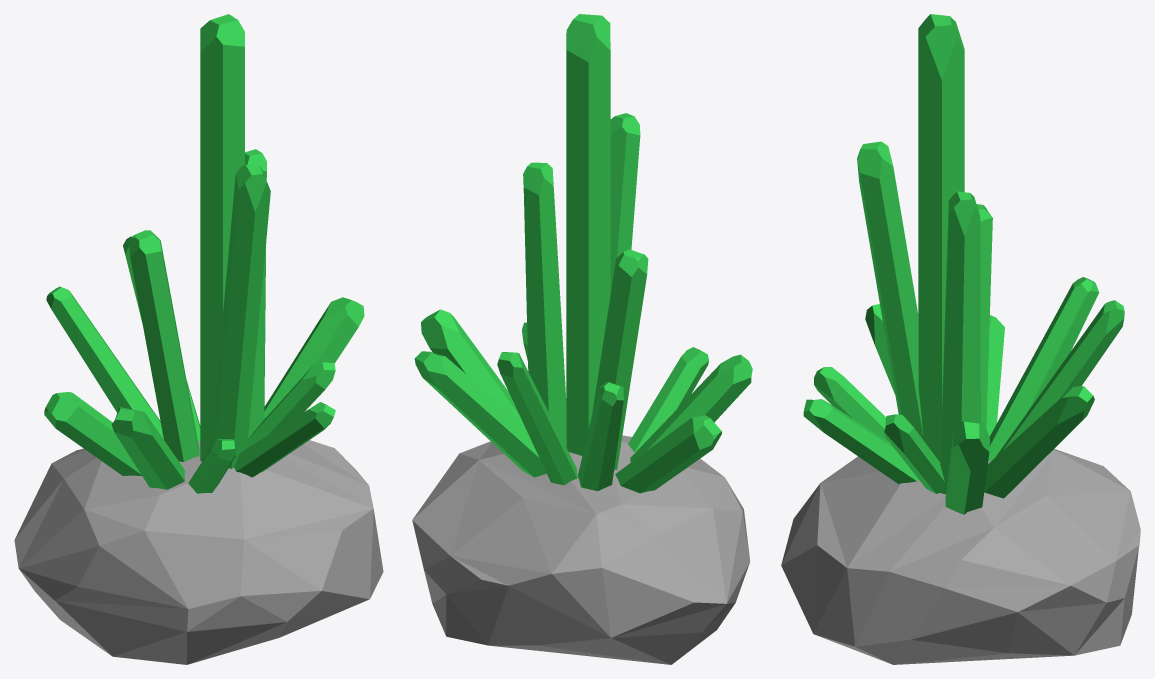
Rendered from sixthmineral.glb.
3 renders of one model, left to right at view 1: azimuth 30°, elevation 25°; view 2: azimuth 150°, elevation 25°; view 3: azimuth 270°, elevation 25°, orthographic. The views are drawn at different scales.
Parts seen in each view (by area): view 1: Crystal_selenite_green; view 2: Crystal_selenite_green; view 3: Crystal_selenite_green.
Part boxes in pixels (left/top/right/bottom): Crystal_selenite_green: left=14, top=14, right=383, bottom=664; Crystal_selenite_green: left=412, top=14, right=752, bottom=664; Crystal_selenite_green: left=781, top=14, right=1140, bottom=664.
Size of the model in its own units: 1.83 by 3.26 by 1.7.
